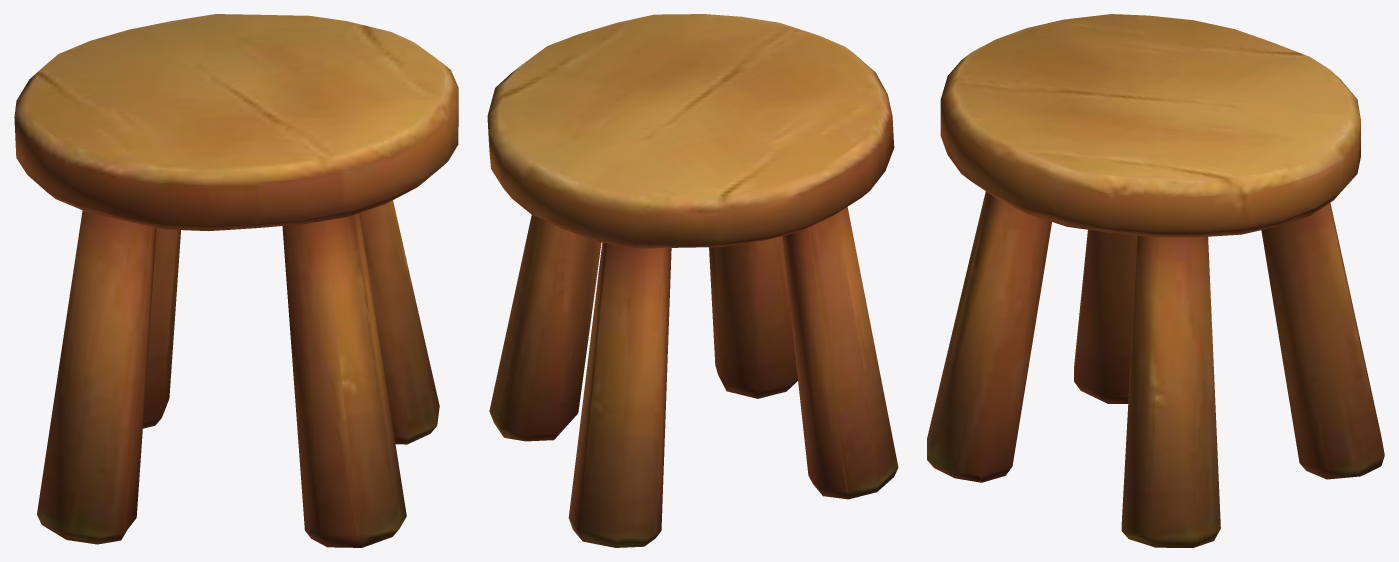
The model's file is wyn_furn_rustic_stool.glb.
3 views of the same model, side by side, from view 1: azimuth 30°, elevation 25°; view 2: azimuth 150°, elevation 25°; view 3: azimuth 270°, elevation 25° (orthographic). The views are drawn at different scales.
Parts seen in each view (by area): view 1: tripo_node_7918937f-2735-4e47-9b1f-05d074e4be43; view 2: tripo_node_7918937f-2735-4e47-9b1f-05d074e4be43; view 3: tripo_node_7918937f-2735-4e47-9b1f-05d074e4be43.
Part boxes in pixels (<box>): tripo_node_7918937f-2735-4e47-9b1f-05d074e4be43: <box>14,14,458,547</box>; tripo_node_7918937f-2735-4e47-9b1f-05d074e4be43: <box>487,14,898,547</box>; tripo_node_7918937f-2735-4e47-9b1f-05d074e4be43: <box>927,14,1384,547</box>.
Bounding box in the file's own units: 0.5766 × 0.55 × 0.5944.
Materials: 1 (1 with a texture image).
